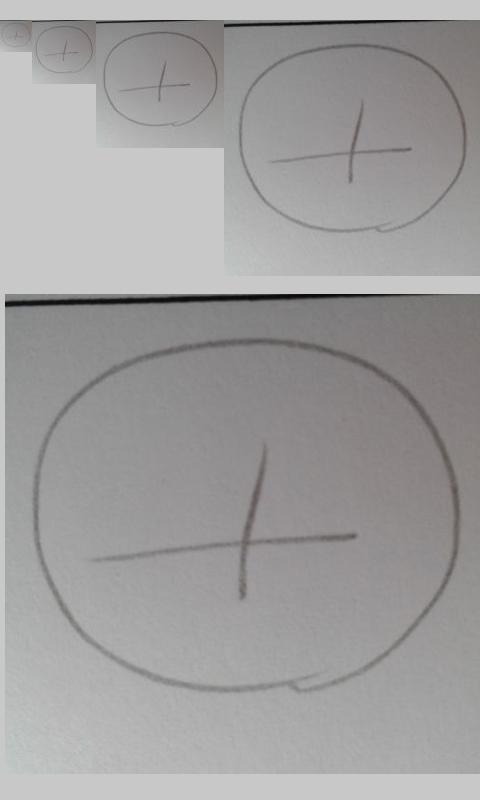button: (31, 335, 463, 692), (237, 43, 468, 233), (103, 31, 218, 127), (35, 25, 93, 74), (1, 22, 30, 48)
